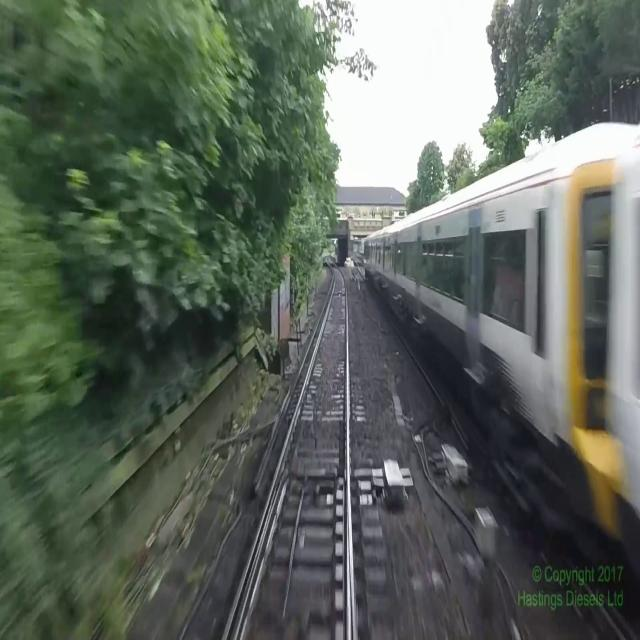rail-track: (238, 255, 347, 639), (225, 578, 246, 639), (353, 254, 365, 276)
